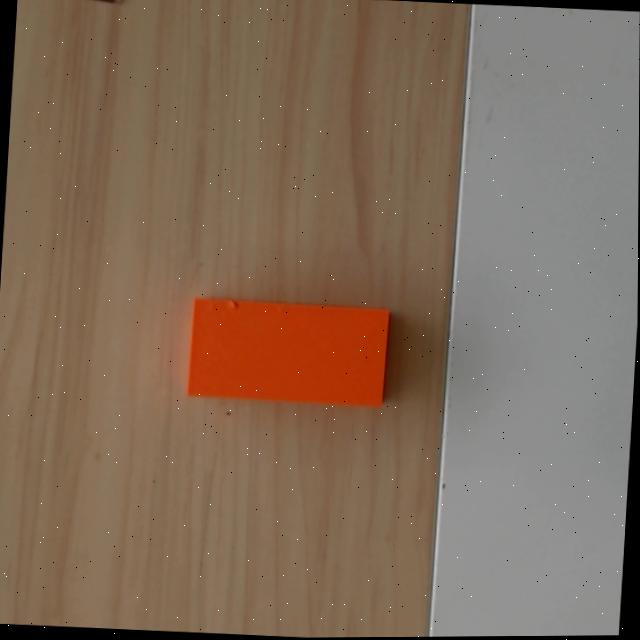Balok-Jingga-1005025: (185, 296, 390, 413)
